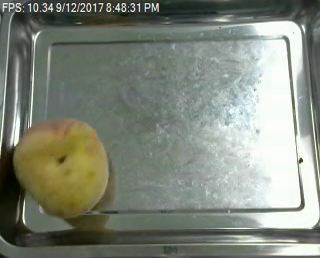Peach: (13, 117, 109, 216)
